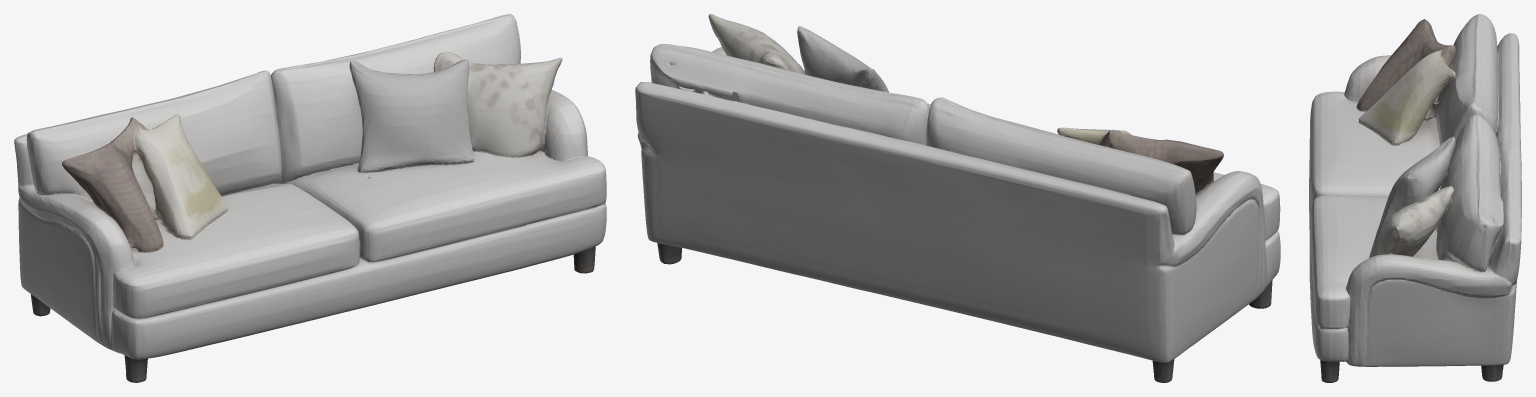
File: multidiffusion_sam3d.glb
The picture shows the model from 3 angles, left to right: view 1: azimuth 30°, elevation 25°; view 2: azimuth 150°, elevation 25°; view 3: azimuth 270°, elevation 25°; orthographic projection. The views are drawn at different scales.
Parts seen in each view (by area): view 1: world; view 2: world; view 3: world.
Part boxes in pixels (x1=…): world: x1=14, y1=14, x2=606, y2=382; world: x1=635, y1=14, x2=1280, y2=382; world: x1=1309, y1=14, x2=1521, y2=382.
Bounding box in the file's own units: 0.9953 × 0.3806 × 0.4234.
